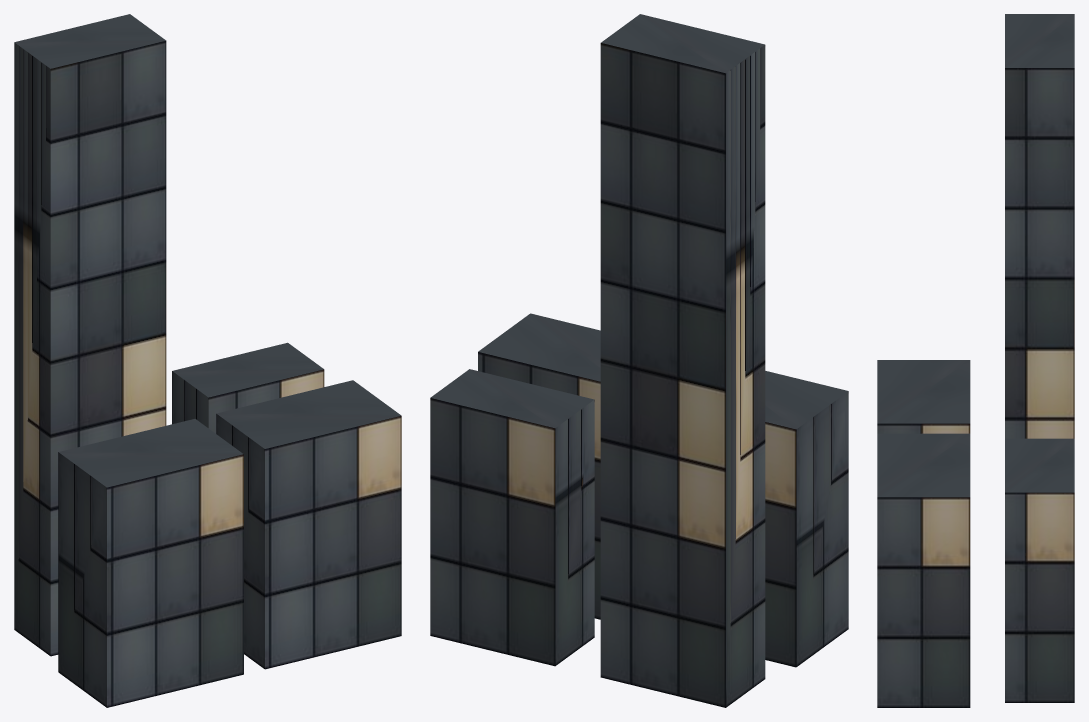
The model's file is block_00.obj.
3 views of the same model, side by side, from view 1: azimuth 30°, elevation 25°; view 2: azimuth 150°, elevation 25°; view 3: azimuth 270°, elevation 25° (orthographic). The views are drawn at different scales.
Parts seen in each view (by area): view 1: b0, b1, b3, b2; view 2: b0, b2, b1, b3; view 3: b0, b3, b2, b1.
Boxes of the visible parts, x1,y1,x2,y2 form: b0: (14, 14, 166, 656); b1: (58, 419, 243, 707); b3: (216, 380, 401, 669); b2: (172, 342, 324, 433); b0: (600, 14, 765, 707); b2: (430, 369, 594, 666); b1: (765, 371, 848, 667); b3: (478, 313, 600, 619); b0: (1005, 14, 1074, 438); b3: (877, 433, 970, 707); b2: (1005, 438, 1074, 702); b1: (877, 360, 970, 433).
Size of the model in its own units: 4.2 by 8 by 2.55.
